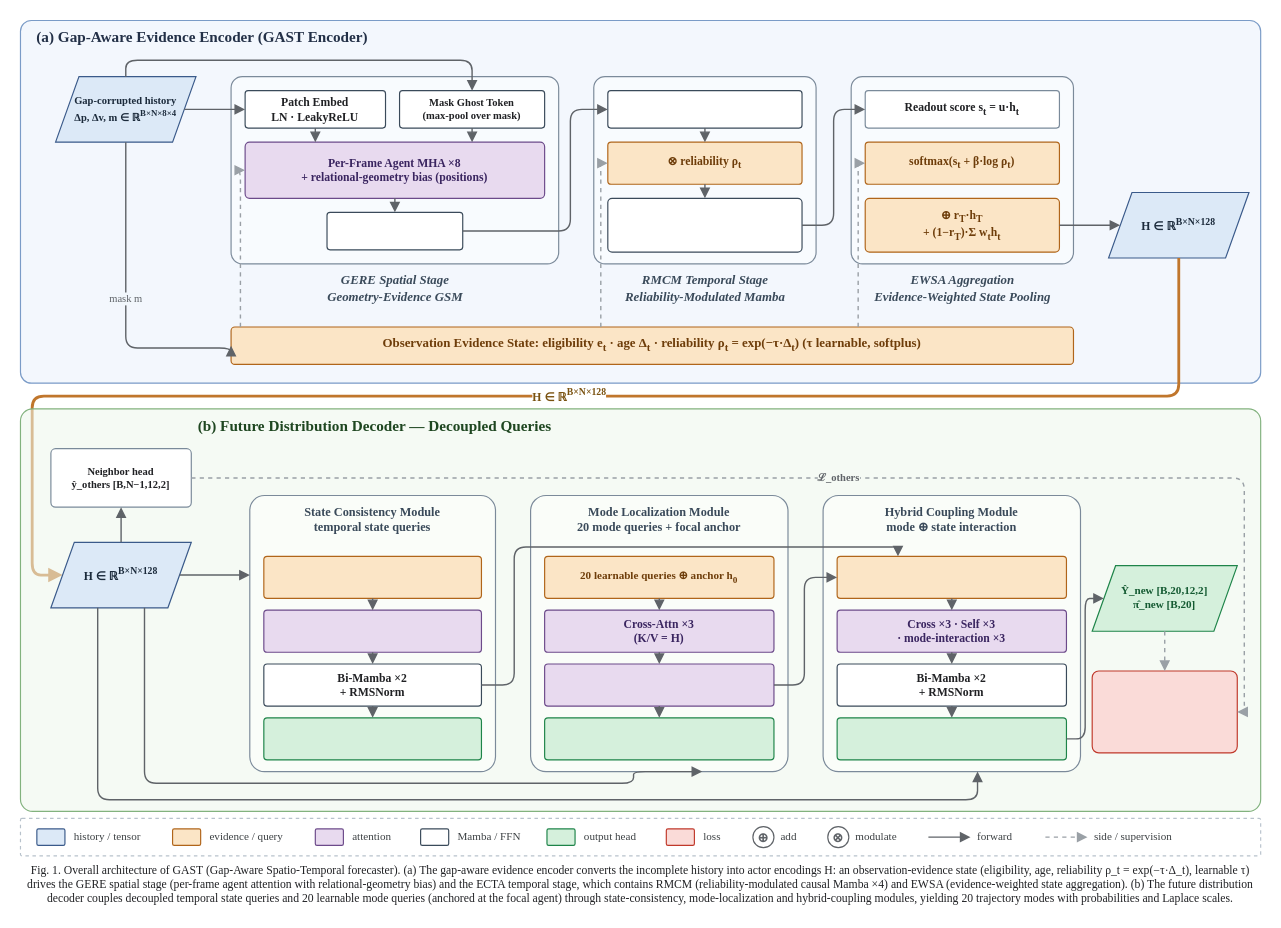
Image size: 1281x928. Some labels were removed from this diagram. Here are the shapes that lost their labels. From the top down, the centre of each, then its label:
At [704,109]: "Temporal MLP LN · LeakyReLU".
At [394,230]: "FFN → Add → LN".
At [704,224]: "Causal Uni-Mamba ×4 + RMSNorm".
At [372,576]: "Future time embedding (t·Δt, Δt = 0.4 s)".
At [951,576]: "Query coupling: mode ⊕ state (outer sum, [B,20,12,d])".
At [372,630]: "Cross-Attn ×2 (K/V = H)".
At [658,684]: "Self-Attn ×3 (mode interaction)".
At [1164,711]: "ℒ = ℒ_reg + ℒ_cls + ℒ_Lap + ℒ_ep + λ·ℒ_div".
At [372,738]: "State head → Ŷ_dense [B,12,2]".
At [658,738]: "Mode heads: μ, π, b [20,12,2] / [20] / [20,12,2]".
At [951,738]: "Coupled heads → Ŷ, π̂, b̂".
